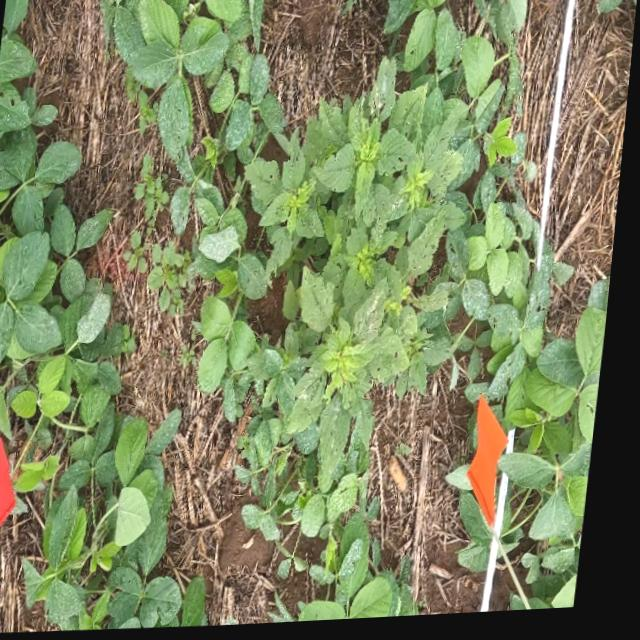caruru_weed: (207, 27, 540, 536), (128, 156, 196, 316)
soy_plant: (103, 0, 287, 234), (247, 421, 429, 626), (508, 283, 615, 617), (495, 251, 559, 406), (381, 0, 469, 77), (198, 182, 251, 264), (473, 0, 527, 55), (325, 101, 384, 146), (471, 496, 502, 573), (599, 0, 627, 20)
